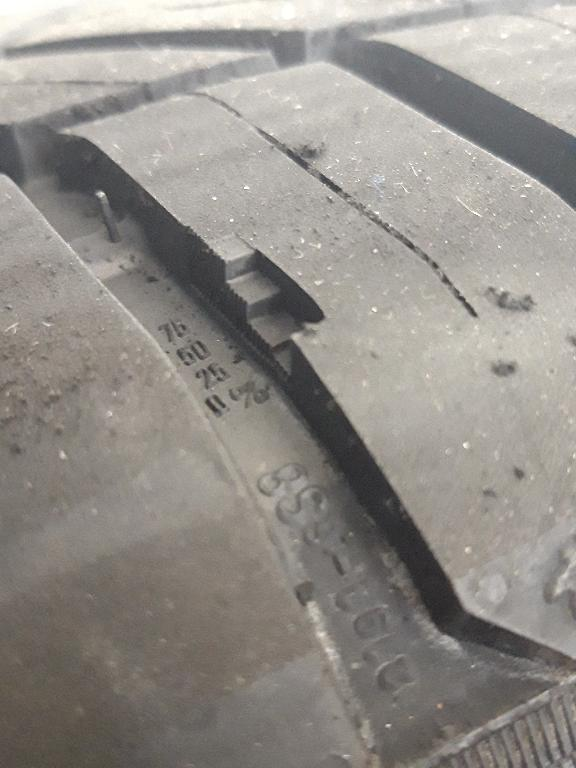temoin:75: (196, 225, 334, 396)
